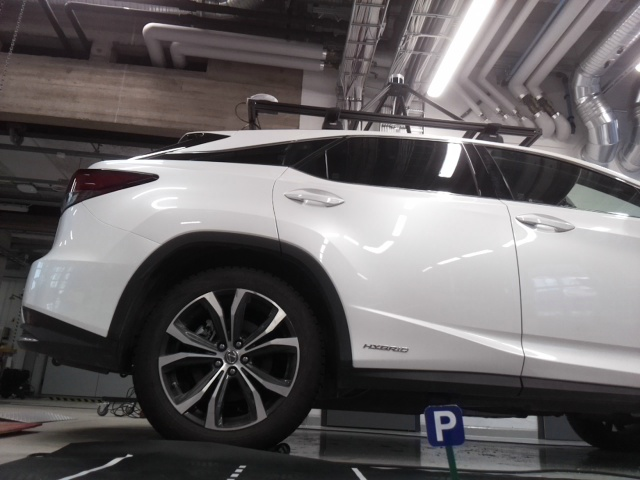Parking: (424, 406, 465, 444)
